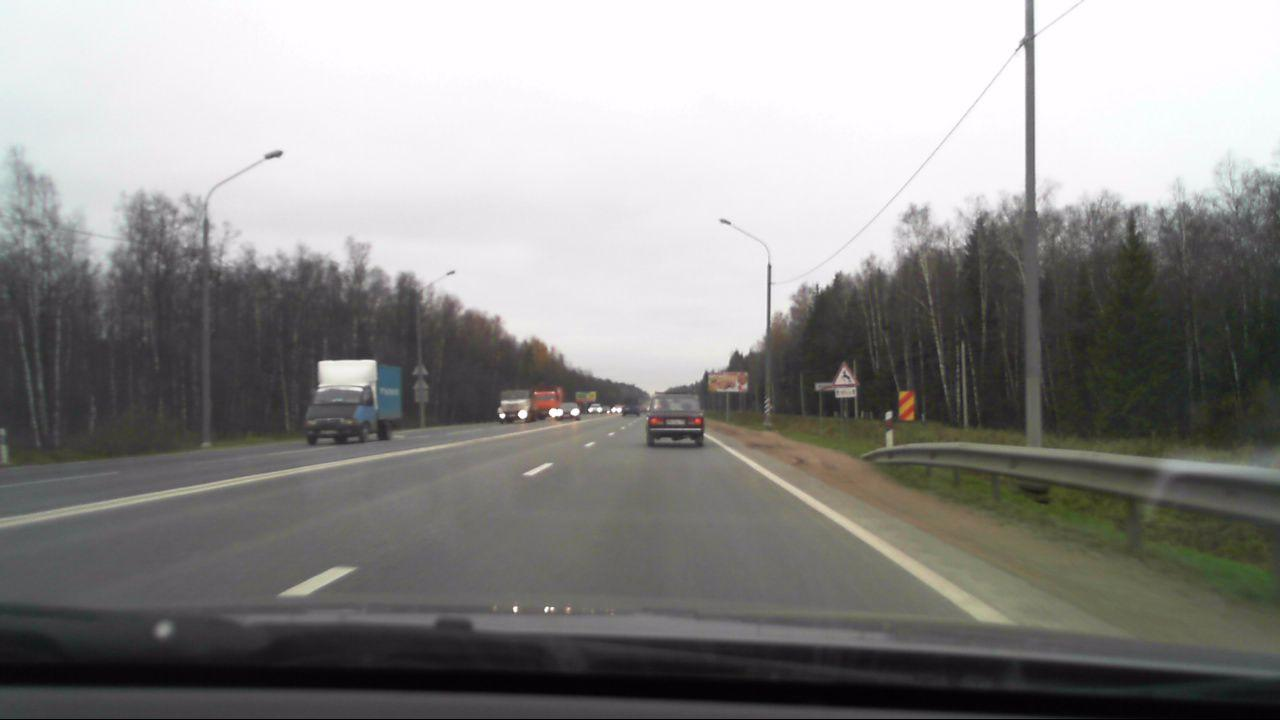1_27: (831, 362, 858, 387)
8_22_1: (896, 386, 916, 420)
8_2_1: (836, 387, 858, 400)
